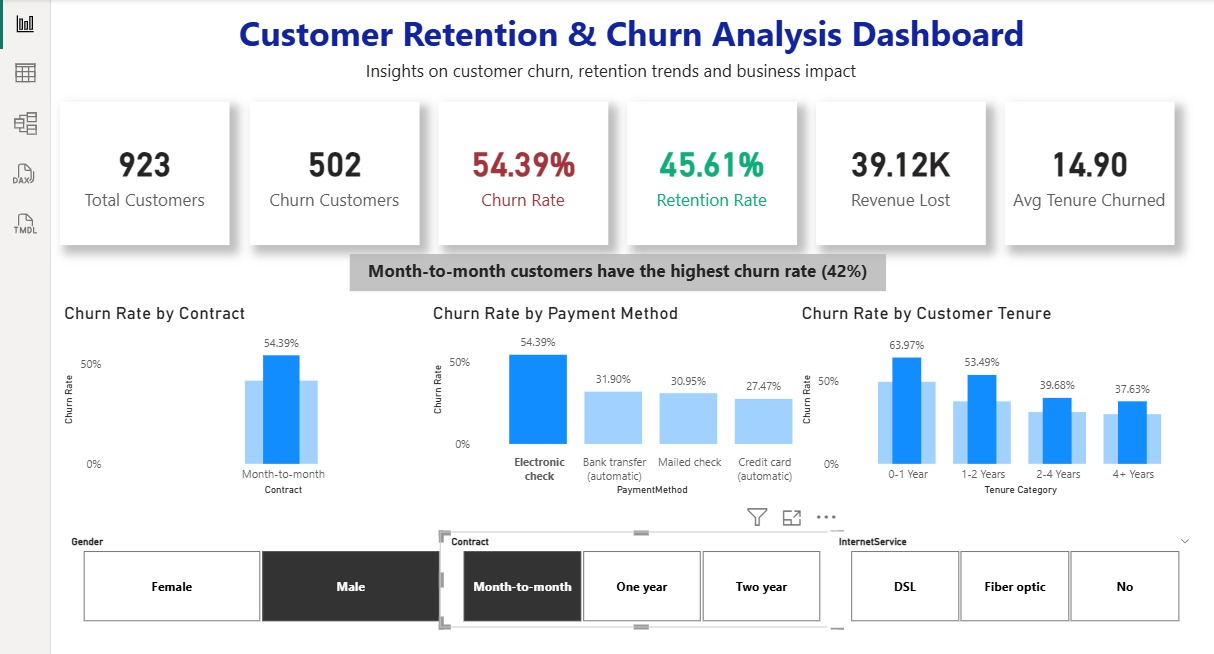

Layout of this report page (visuals, bound fields, positions):
{"tool":"powerbi","page":{"name":"Page 1","canvas":[1280,720],"ordinal":0},"visuals":[{"type":"textbox","box":[9.6,0,1128,279.9],"z":0},{"type":"textbox","box":[50.8,60.4,1128,41.2],"z":1000},{"type":"card","fields":{"Values":["ChurnData.Total Customers"]},"box":[9.6,112.5,186.6,157.8],"z":2000},{"type":"card","fields":{"Values":["ChurnData.Churn Customers"]},"box":[217.6,112.5,186,157.8],"z":3000},{"type":"card","fields":{"Values":["ChurnData.Churn Rate"]},"box":[424.9,112.5,186,157.8],"z":4000},{"type":"card","fields":{"Values":["ChurnData.Retention Rate"]},"box":[632.3,112.5,186,157.8],"z":5000},{"type":"card","fields":{"Values":["ChurnData.Revenue Lost"]},"box":[839.6,112.5,186,157.8],"z":6000},{"type":"card","fields":{"Values":["ChurnData.Avg Tenure Churned"]},"box":[1047,112.5,186,157.8],"z":7000},{"type":"clusteredColumnChart","title":"Churn Rate by Contract","fields":{"Category":["ChurnData.Contract"],"Y":["ChurnData.Churn Rate"]},"box":[9.6,333.4,440.5,216.8],"z":8000},{"type":"clusteredColumnChart","title":"Churn Rate by Payment Method","fields":{"Category":["ChurnData.PaymentMethod"],"Y":["ChurnData.Churn Rate"]},"box":[414.4,333.4,440.5,216],"z":9000},{"type":"clusteredColumnChart","title":"Churn Rate by Customer Tenure","fields":{"Category":["ChurnData.Tenure Category"],"Y":["ChurnData.Churn Rate"]},"box":[819.2,333.4,440.5,216.8],"z":10000},{"type":"slicer","fields":{"Values":["ChurnData.gender"]},"box":[9.6,584.6,440.5,105.7],"z":11000},{"type":"slicer","fields":{"Values":["ChurnData.Contract"]},"box":[426.8,584.6,441.9,105.7],"z":12000},{"type":"slicer","fields":{"Values":["ChurnData.InternetService"]},"box":[852.1,584.6,410.3,105.7],"z":13000},{"type":"textbox","box":[328,279.9,588.7,41.2],"z":14000}]}

Visuals, with their boxes on the page's 1280x720 design canvas (x1, y1, x2, y2). These are canvas units, not pixel positions in the 1214x654 screenshot, which may show the page scaled, cropped or inside an application window:
textbox: 10 0 1138 280
textbox: 51 60 1179 102
card - ChurnData.Total Customers: 10 112 196 270
card - ChurnData.Churn Customers: 218 112 404 270
card - ChurnData.Churn Rate: 425 112 611 270
card - ChurnData.Retention Rate: 632 112 818 270
card - ChurnData.Revenue Lost: 840 112 1026 270
card - ChurnData.Avg Tenure Churned: 1047 112 1233 270
"Churn Rate by Contract" clusteredColumnChart: 10 333 450 550
"Churn Rate by Payment Method" clusteredColumnChart: 414 333 855 549
"Churn Rate by Customer Tenure" clusteredColumnChart: 819 333 1260 550
slicer - ChurnData.gender: 10 585 450 690
slicer - ChurnData.Contract: 427 585 869 690
slicer - ChurnData.InternetService: 852 585 1262 690
textbox: 328 280 917 321
